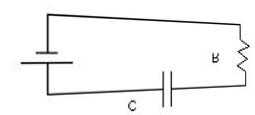resistor: (234, 29, 249, 74)
